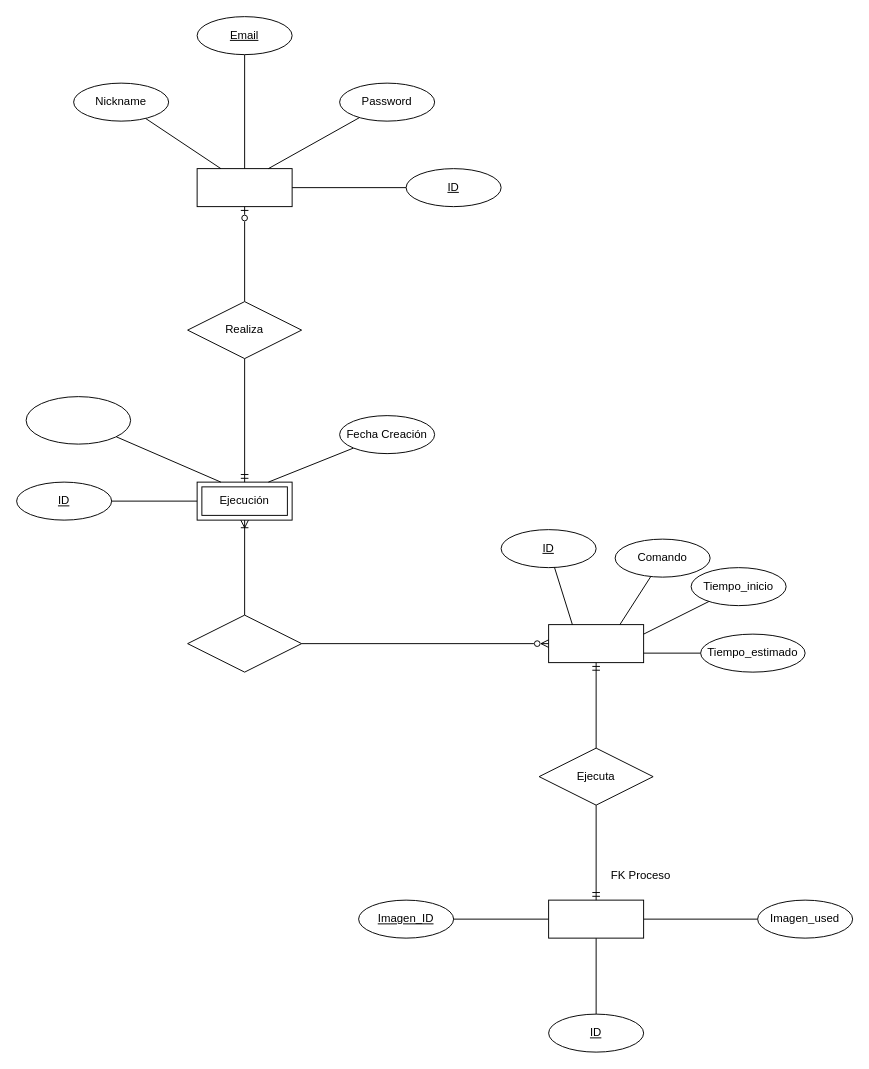
Image size: 869x1069. Some labels were removed from this diagram. The centre of each missing label's shape, as x and y in pixels:
Contener/Estar: (244,643)
Fecha Eliminación: (78,420)
Imagen: (596,918)
Proceso: (596,643)
usuario: (244,187)
